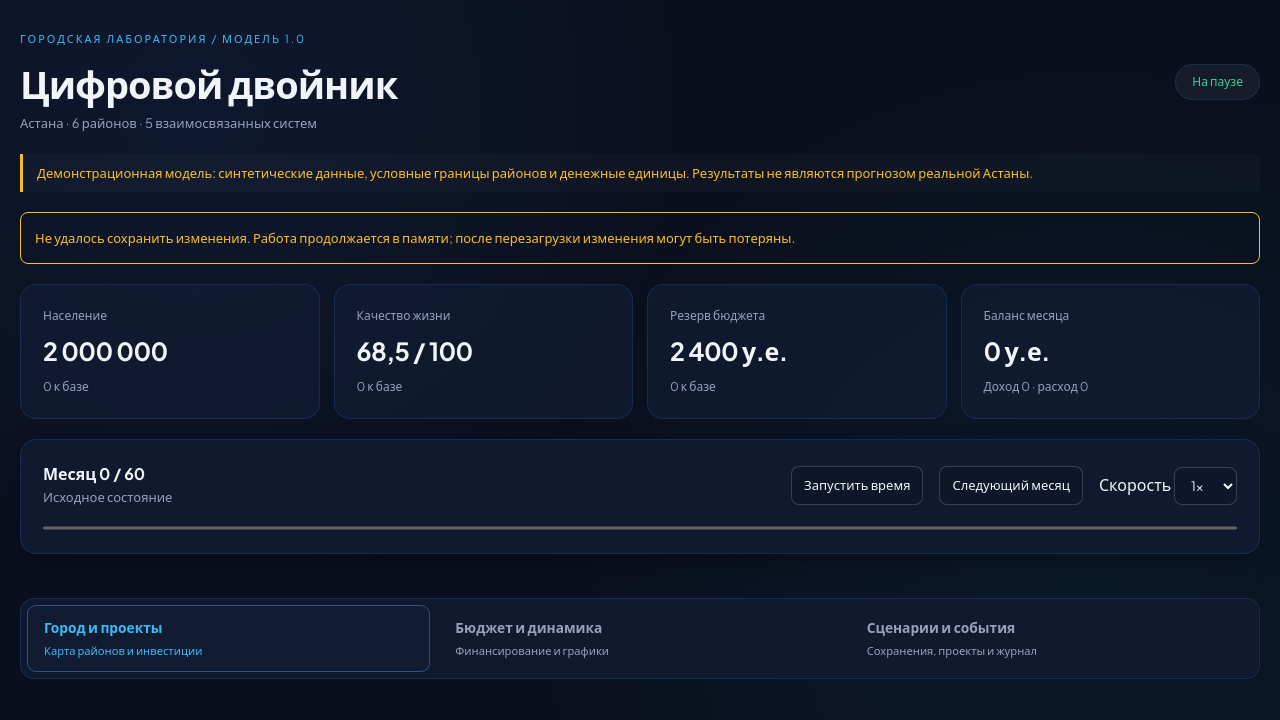
Test: continues in memory when writes fail and warns about persistence
Expected: the message shows "памяти", [35,230,795,246]
Click the button "Следующий месяц": (1011, 486) [939,466,1083,505]
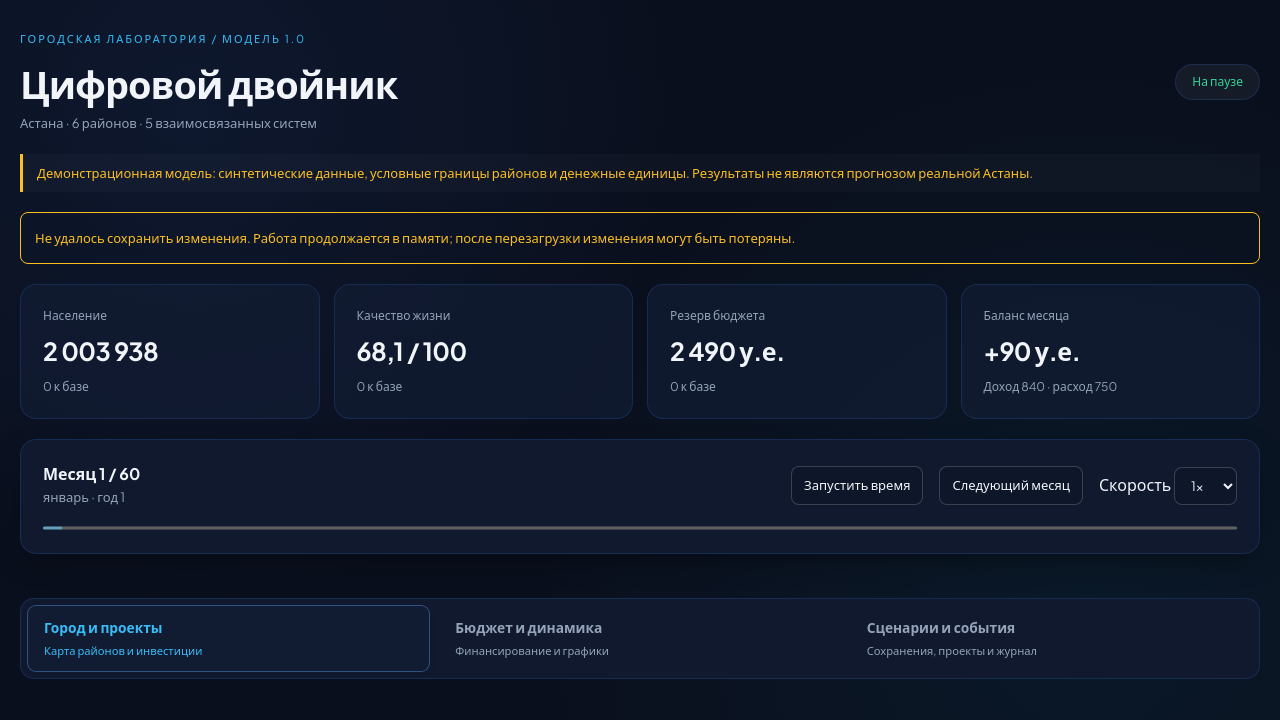
Expected: the text with test id "twin-month" shows "1 / 60", [43,464,140,484]
